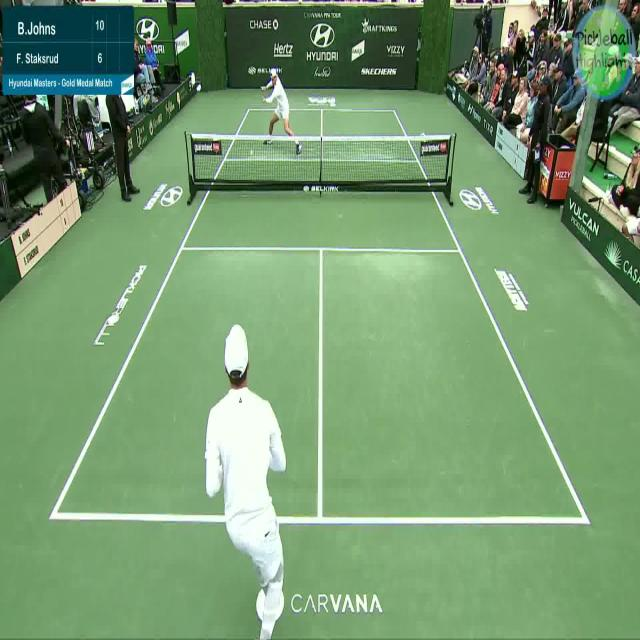Court: (51, 108, 587, 523)
ball: (249, 146, 255, 156)
